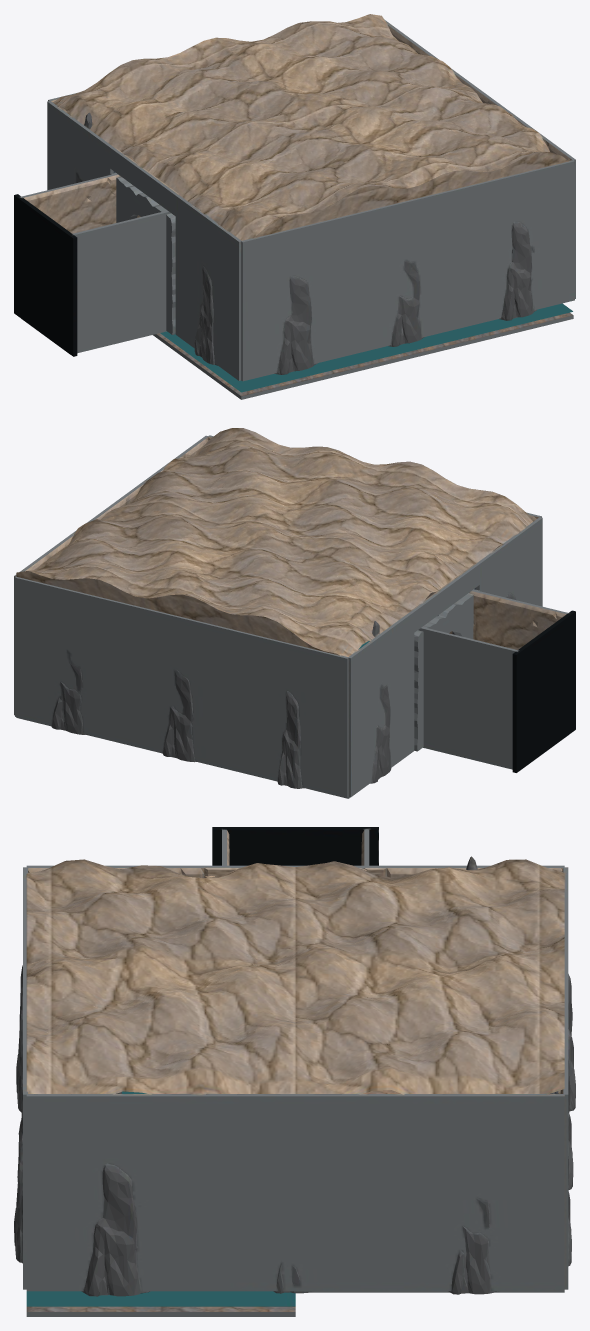
File: room.glb
3 views of the same model, one above another, from view 1: azimuth 30°, elevation 25°; view 2: azimuth 150°, elevation 25°; view 3: azimuth 270°, elevation 25° (orthographic). The views are drawn at different scales.
Parts seen in each view (by area): view 1: POOL-ROOM; view 2: POOL-ROOM; view 3: POOL-ROOM.
Boxes of the visible parts, box(x1,y1,x2,y2) form: POOL-ROOM: box(14, 14, 575, 399); POOL-ROOM: box(14, 428, 575, 798); POOL-ROOM: box(14, 827, 575, 1316).
Bounding box in the file's own units: 13.29 × 5.29 × 10.45.
Materials: 1 (1 with a texture image).
